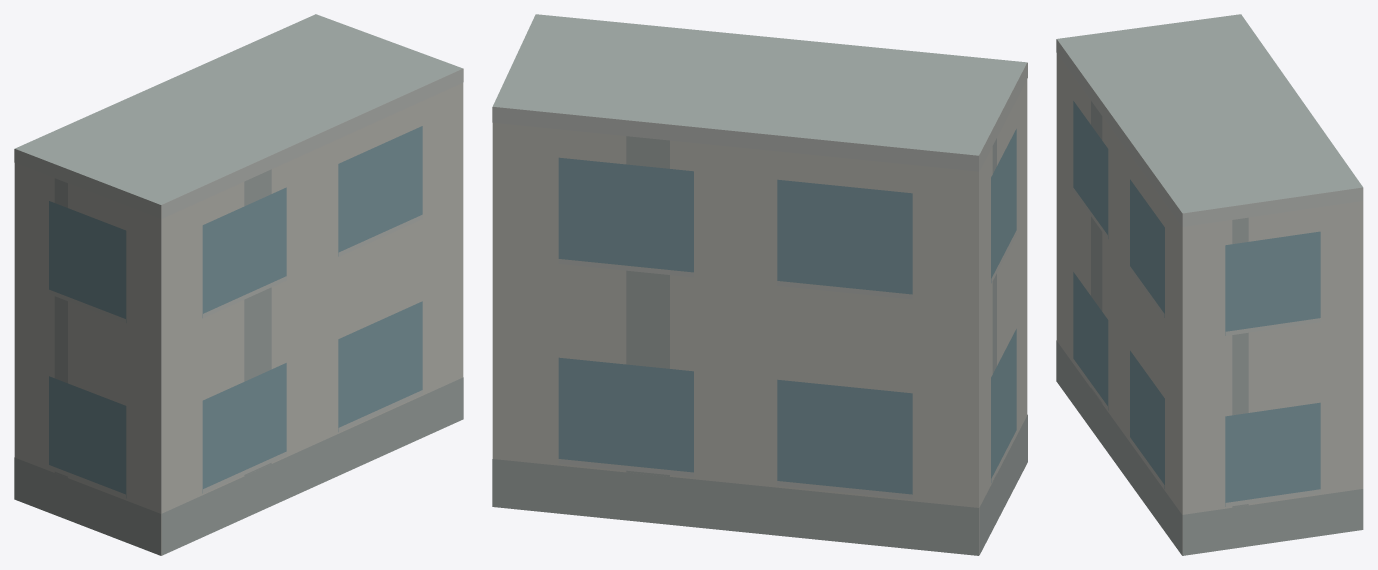
The model's file is survey-upis-32634926.glb.
The picture shows the model from 3 angles, left to right: view 1: azimuth 30°, elevation 25°; view 2: azimuth 150°, elevation 25°; view 3: azimuth 270°, elevation 25°; orthographic projection. The views are drawn at different scales.
Visible parts, largest first — view 1: survey-upis-32634926.tmp; view 2: survey-upis-32634926.tmp; view 3: survey-upis-32634926.tmp.
Boxes of the visible parts, x1,y1,x2,y2 form: survey-upis-32634926.tmp: (14,14,463,555); survey-upis-32634926.tmp: (492,14,1027,555); survey-upis-32634926.tmp: (1056,14,1363,555).
Bounding box in the file's own units: 7.63 × 6.1 × 4.96.
